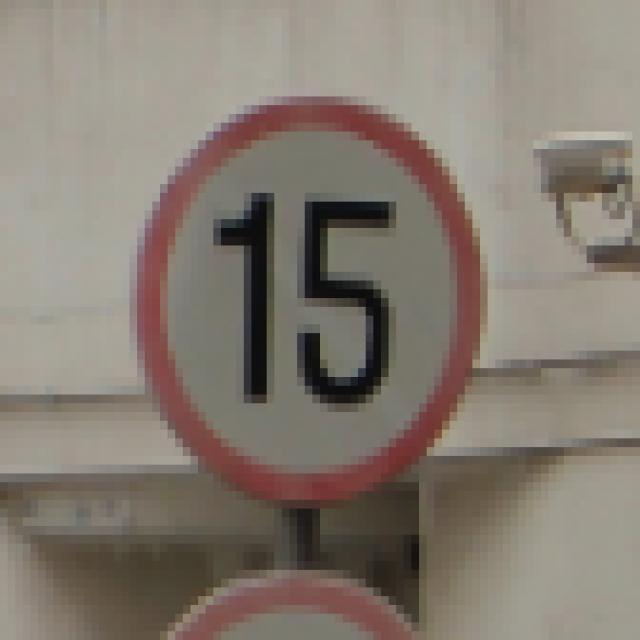Speed: (125, 60, 503, 544)
